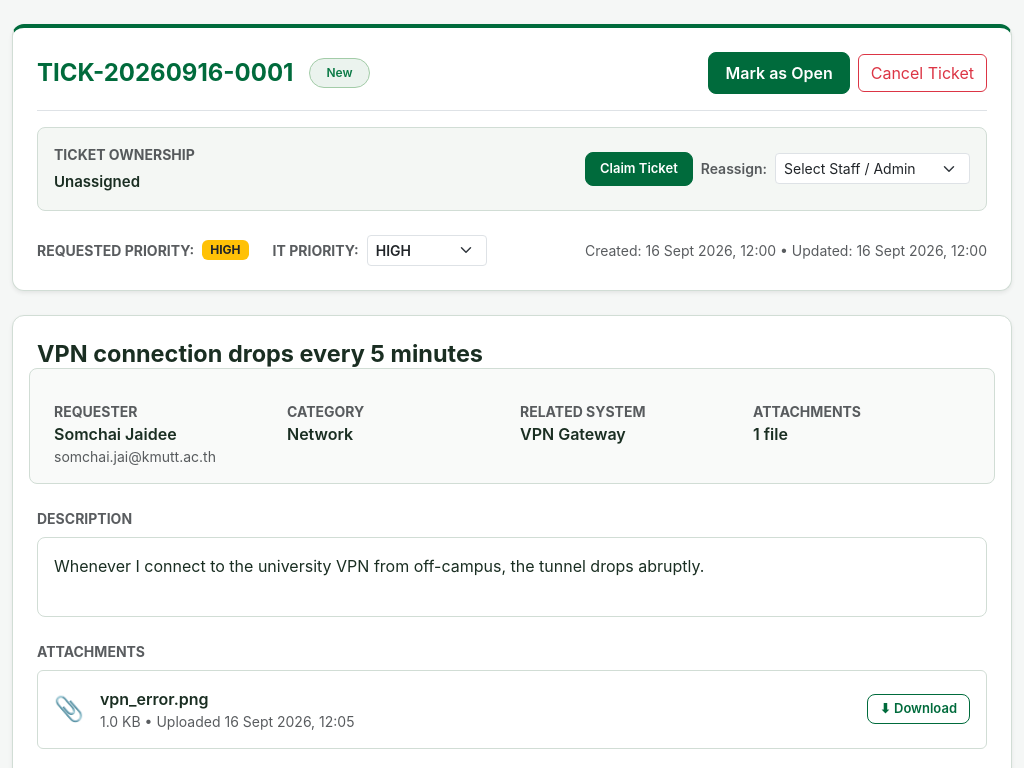
StaffTicketDetail Component UI Tests (DETAIL-UI-01) › Ticket Ownership Bar (Claim & Reassign Controls) › claims ticket when 'Claim Ticket' is clicked
What coordinates should you click on to do the following:
click the button with test id "claim-ticket-btn"
I would click on:
 (639, 169)
Its box is [585,152,693,186].
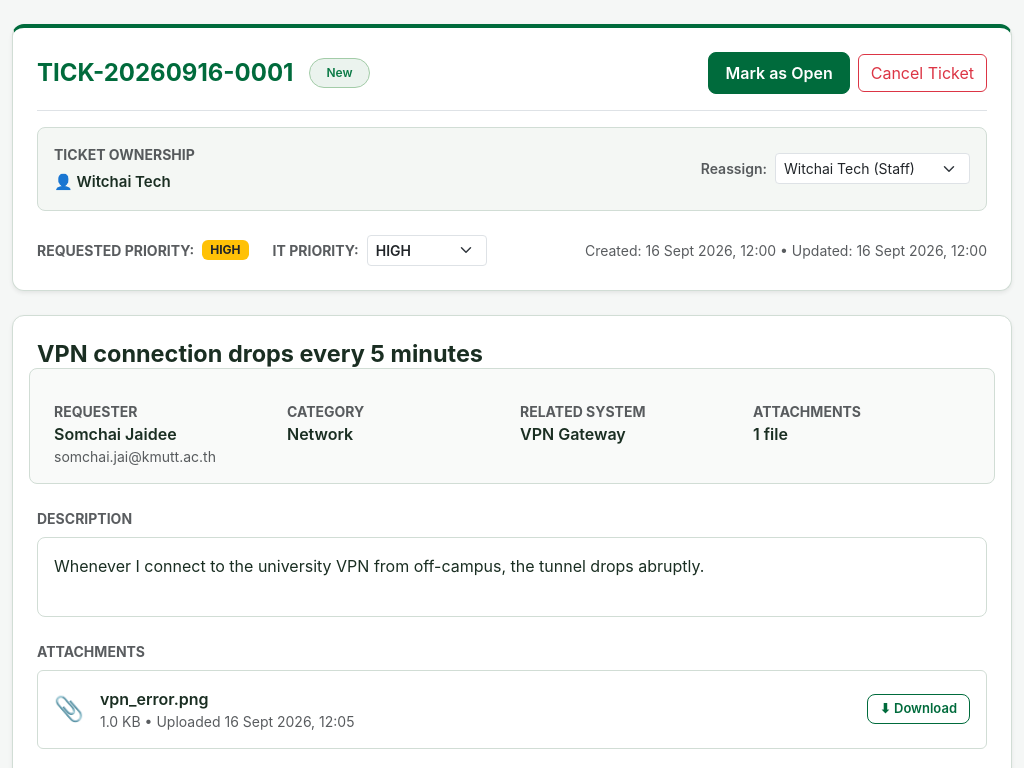
Expected: the text with test id "current-owner-display" shows "Witchai Tech", [54,172,171,191]
